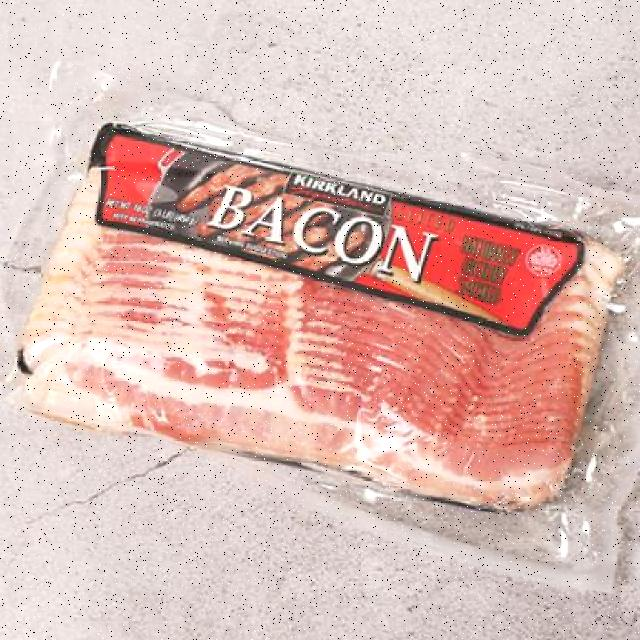Bacon: (39, 75, 636, 576)
